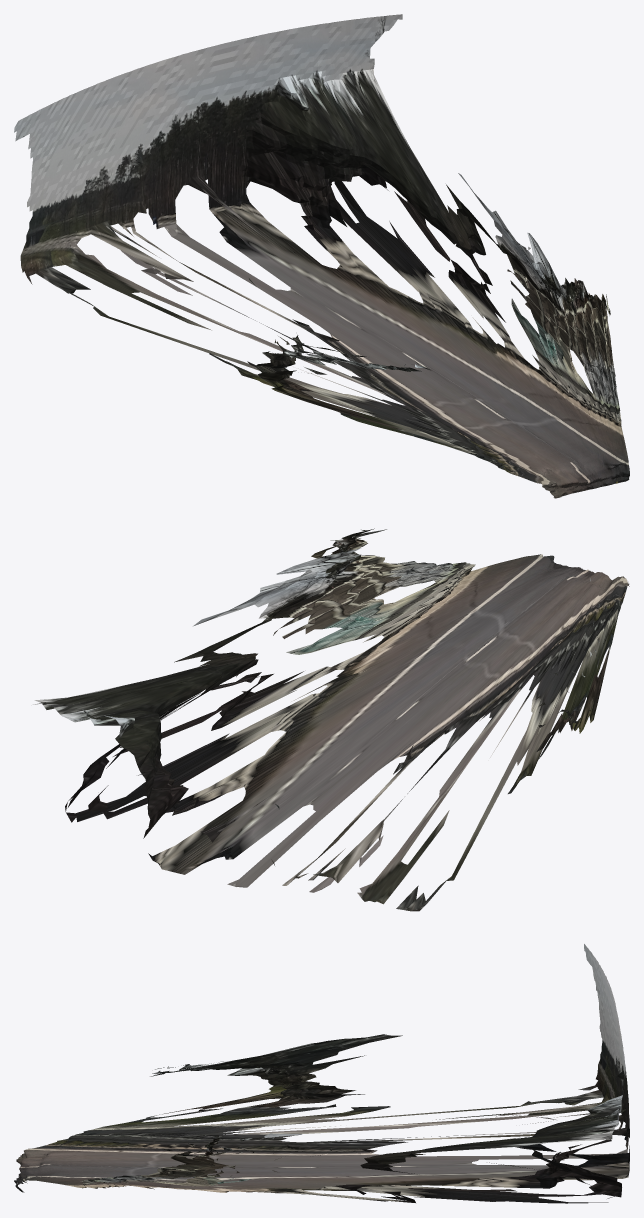
3 renders of one model, top to bottom at view 1: azimuth 30°, elevation 25°; view 2: azimuth 150°, elevation 25°; view 3: azimuth 270°, elevation 25°, orthographic. The views are drawn at different scales.
Parts seen in each view (by area): view 1: defaultobject; view 2: defaultobject; view 3: defaultobject.
Part boxes in pixels (x1=…): defaultobject: x1=14, y1=14, x2=629, y2=498; defaultobject: x1=33, y1=528, x2=629, y2=911; defaultobject: x1=14, y1=944, x2=629, y2=1203.
Bounding box in the file's own units: 27.11 × 11.97 × 44.3.
1 material, 1 textured.
